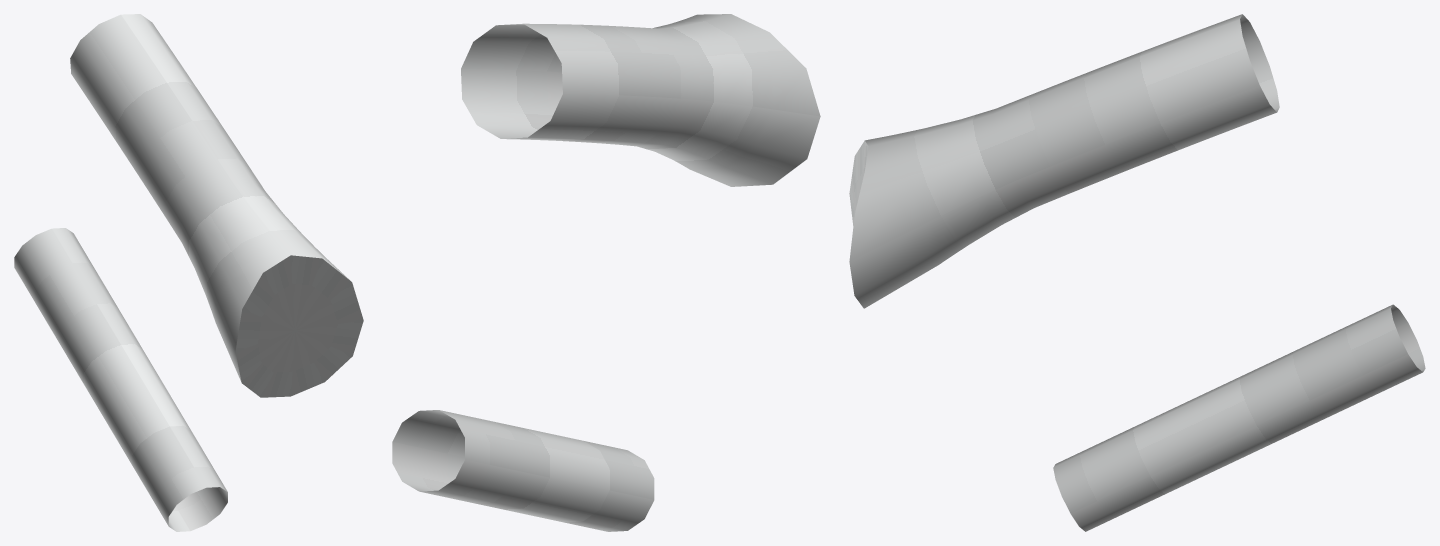
Rendered from luminairearm_truss15ft_c0.obj.
3 views of the same model, side by side, from view 1: azimuth 30°, elevation 25°; view 2: azimuth 150°, elevation 25°; view 3: azimuth 270°, elevation 25° (orthographic). The views are drawn at different scales.
Parts seen in each view (by area): view 1: luminairearm_truss15ft_c0; view 2: luminairearm_truss15ft_c0; view 3: luminairearm_truss15ft_c0.
Part boxes in pixels (bbox=[...]): luminairearm_truss15ft_c0: bbox=[14, 14, 363, 531]; luminairearm_truss15ft_c0: bbox=[392, 14, 820, 531]; luminairearm_truss15ft_c0: bbox=[849, 14, 1425, 531].
Size of the model in its own units: 0.3375 by 1.17 by 1.2.
